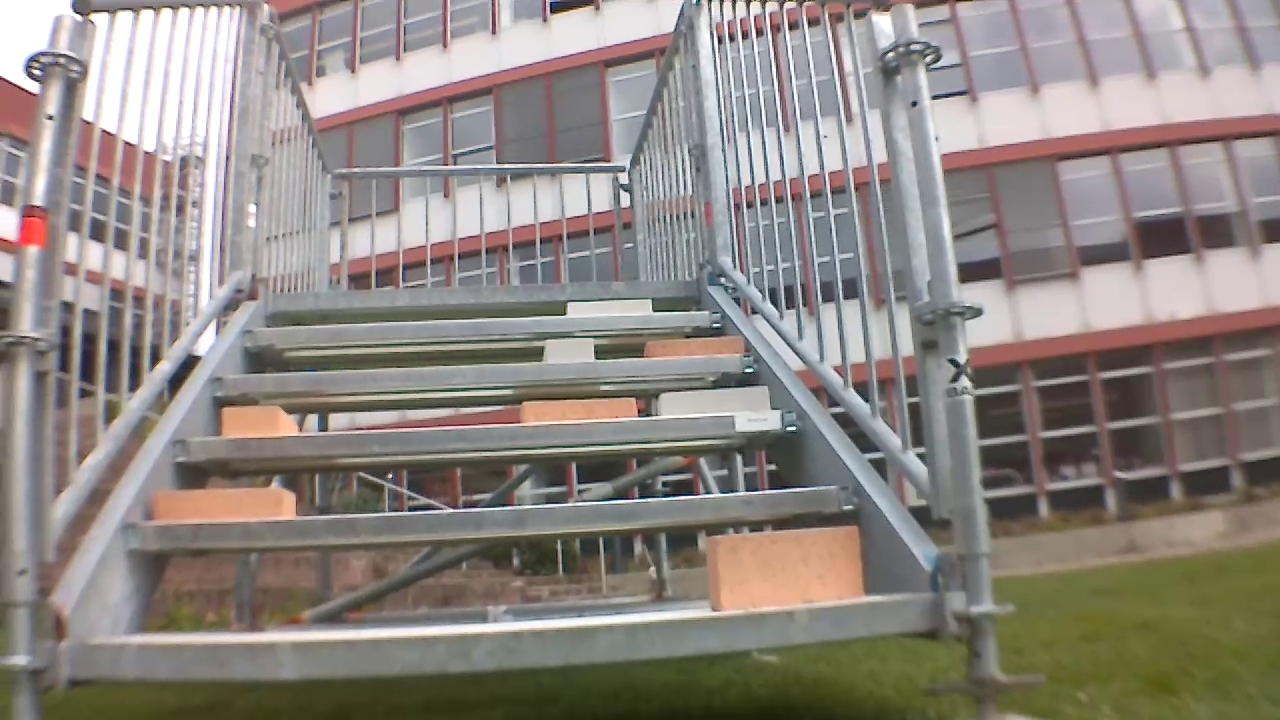brick: (695, 527, 862, 622), (147, 489, 296, 525), (652, 381, 769, 417), (517, 397, 634, 423), (636, 335, 751, 360), (222, 401, 298, 436), (570, 294, 654, 314), (538, 341, 590, 365)
edge: (62, 602, 948, 686), (127, 484, 872, 559), (170, 410, 803, 466), (239, 305, 725, 353), (263, 277, 706, 310), (213, 359, 756, 380)
stairs: (22, 0, 995, 698)
steps: (55, 275, 946, 689)
